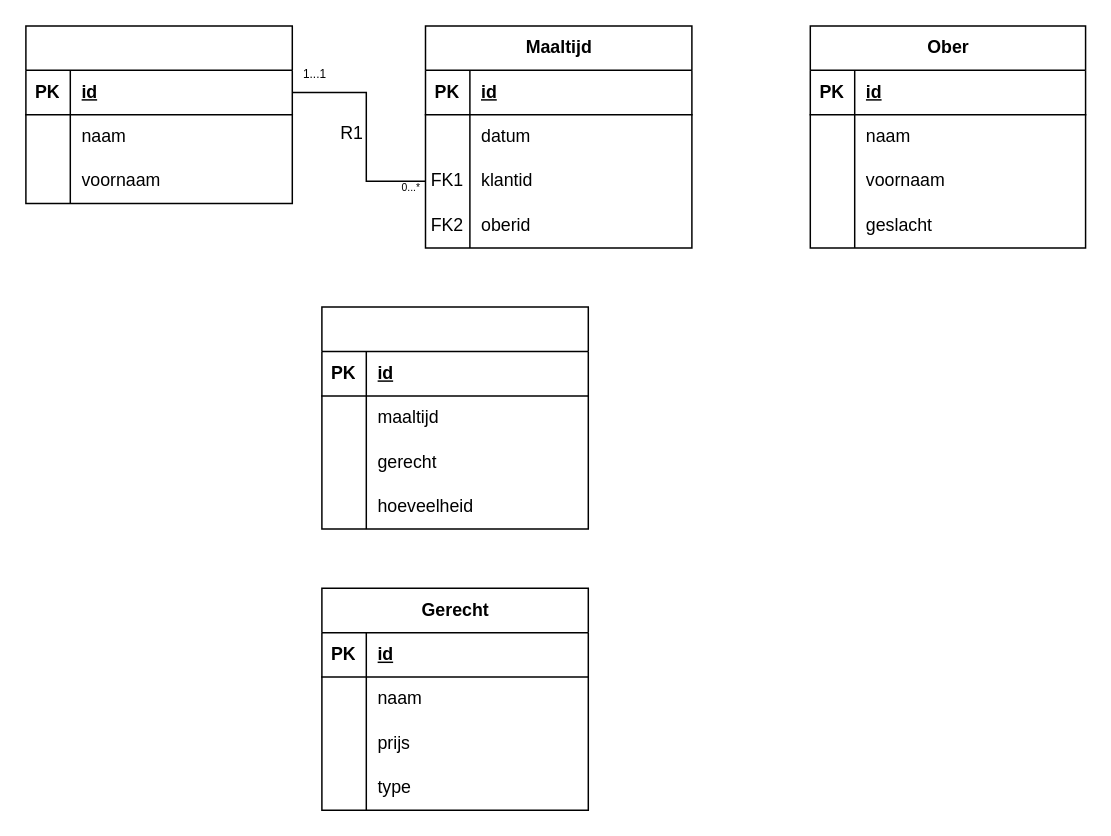
The diagram is 1111 pixels wide and 836 high, and some of its shapes have lost their labels. Here are the shapes that lost their labels. From the top down, the box of each, then its label:
(24, 24, 292, 204): Klant
(320, 306, 588, 529): MaaltijdGerecht
